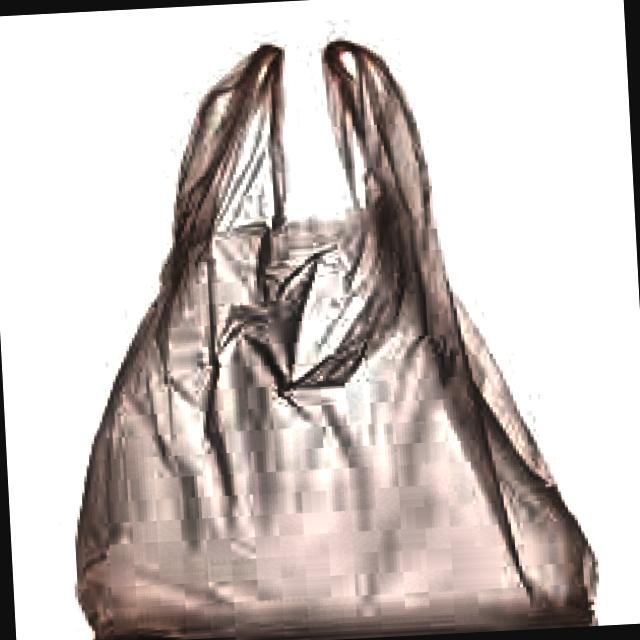plastic bag: (78, 41, 594, 640)
